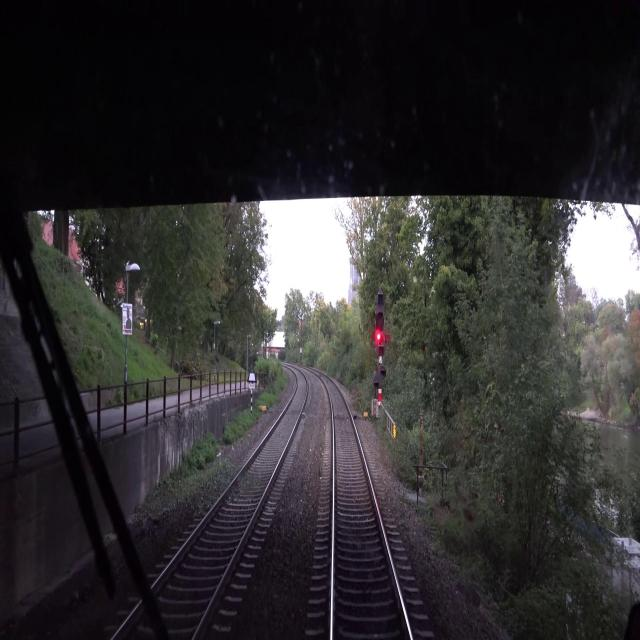rail-track: (166, 372, 305, 633), (326, 379, 409, 639)
